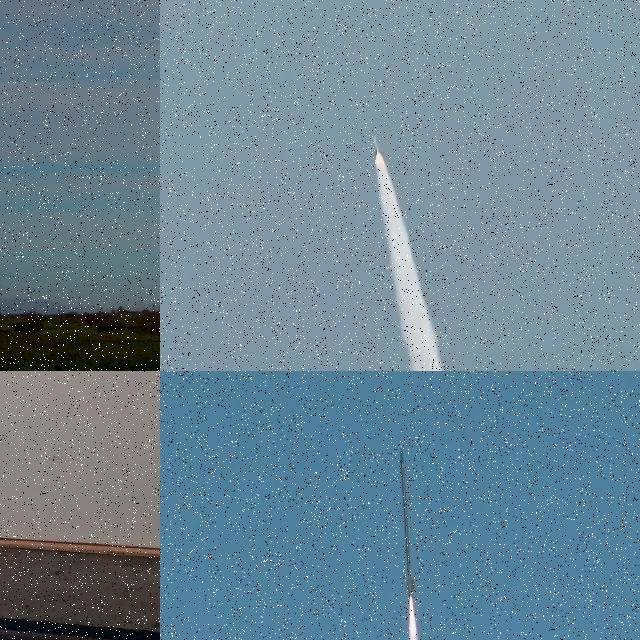Rocket: (400, 444, 416, 595), (373, 134, 383, 160)
